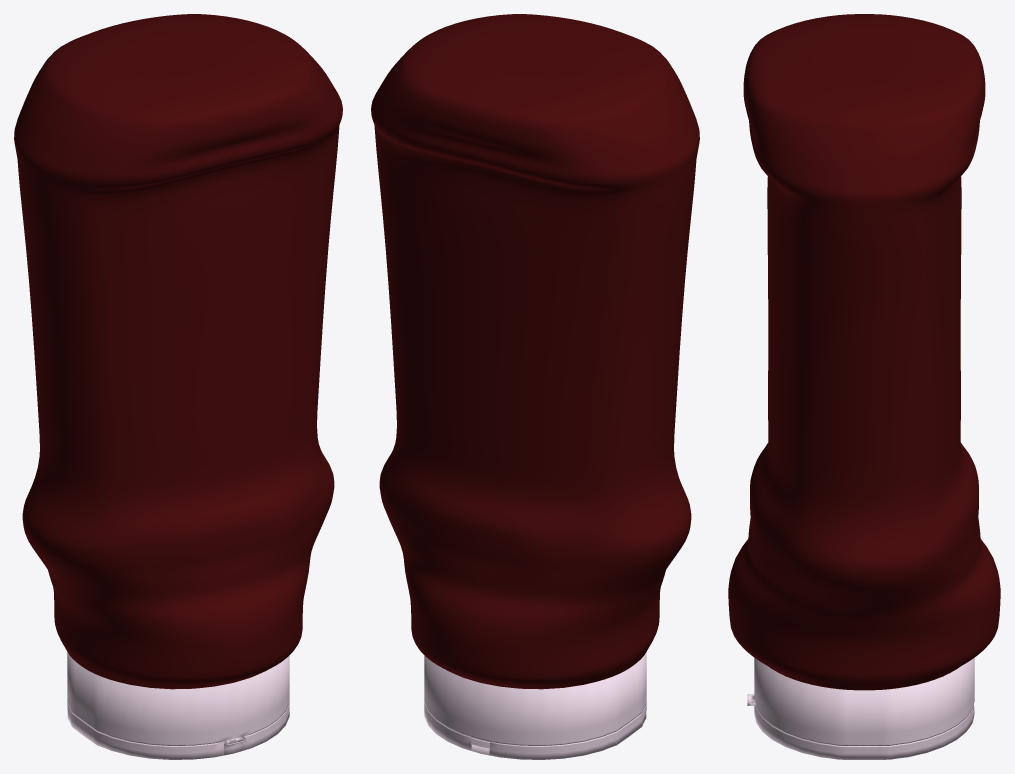
The model's file is ketchup.obj.
3 views of the same model, side by side, from view 1: azimuth 30°, elevation 25°; view 2: azimuth 150°, elevation 25°; view 3: azimuth 270°, elevation 25° (orthographic).
Visible parts, largest first — view 1: ketchup_bottle, ketchup_bottle.001; view 2: ketchup_bottle, ketchup_bottle.001; view 3: ketchup_bottle, ketchup_bottle.001.
Part boxes in pixels (x1,y1,x2,y2): ketchup_bottle: [14, 14, 342, 745]; ketchup_bottle.001: [67, 697, 289, 759]; ketchup_bottle: [371, 14, 699, 745]; ketchup_bottle.001: [424, 697, 646, 759]; ketchup_bottle: [728, 14, 1000, 745]; ketchup_bottle.001: [747, 701, 974, 759].
Bounding box in the file's own units: 0.4106 × 0.8595 × 0.3235.
